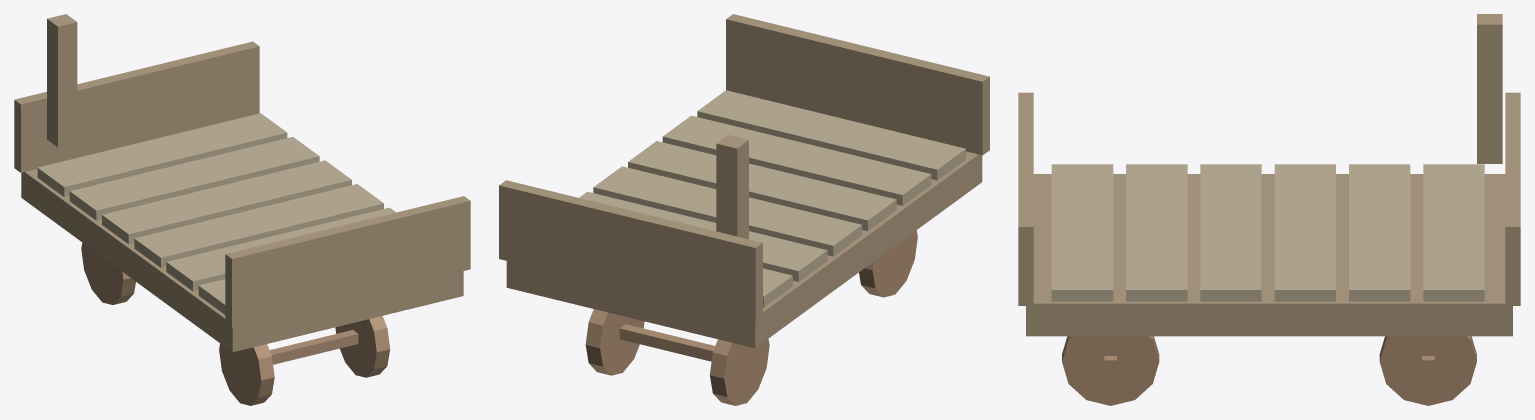
Rendered from trench-line-1917-rail-trolley-67557838__24119.glb.
3 renders of one model, left to right at view 1: azimuth 30°, elevation 25°; view 2: azimuth 150°, elevation 25°; view 3: azimuth 270°, elevation 25°, orthographic. The views are drawn at different scales.
Parts seen in each view (by area): view 1: rail-trolley; view 2: rail-trolley; view 3: rail-trolley.
Boxes of the visible parts, bbox=[...] form: rail-trolley: bbox=[14, 14, 470, 405]; rail-trolley: bbox=[499, 14, 989, 405]; rail-trolley: bbox=[1018, 14, 1520, 405].
Bounding box in the file's own units: 1.24 × 1.32 × 1.96.
